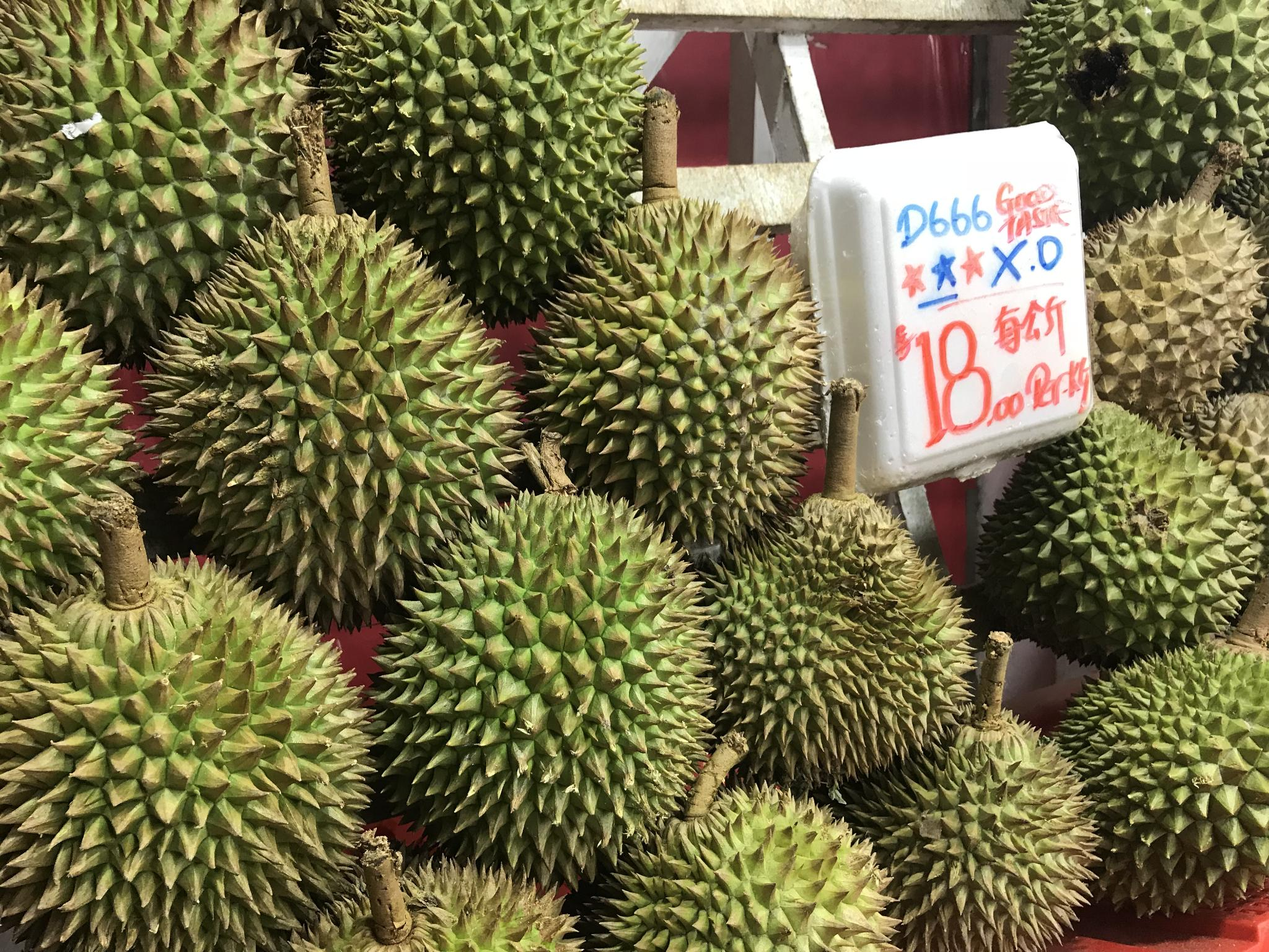sau_rieng: (152, 205, 522, 627), (369, 489, 711, 889), (708, 494, 975, 797)
